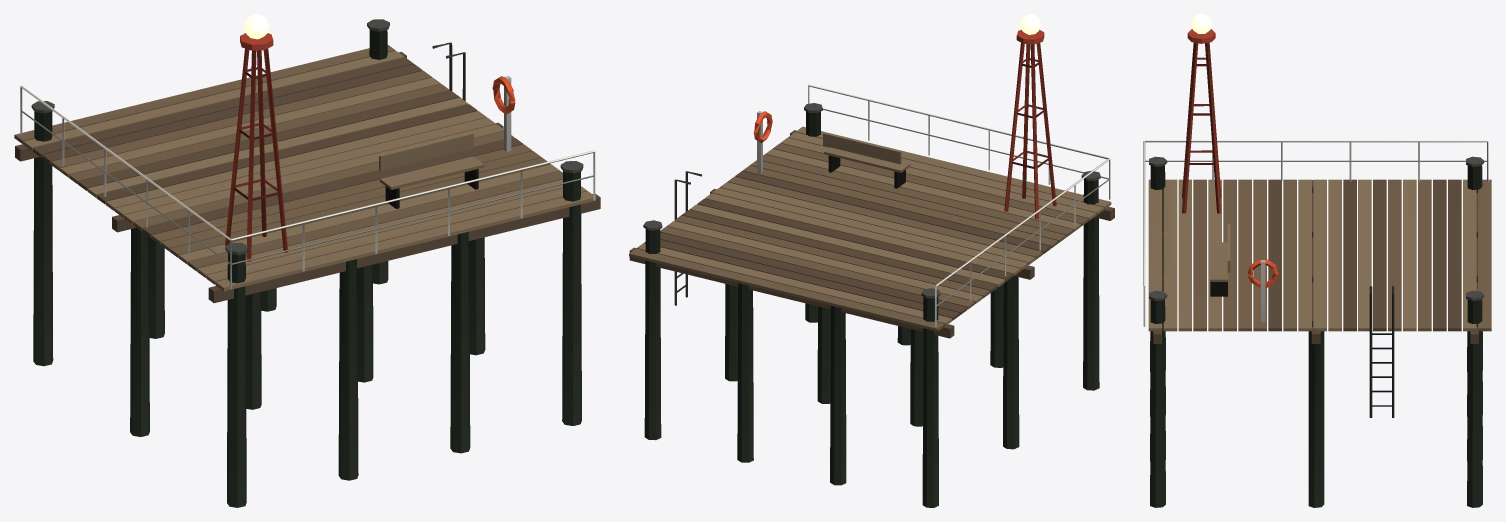
Rendered from pier_head.glb.
The picture shows the model from 3 angles, left to right: view 1: azimuth 30°, elevation 25°; view 2: azimuth 150°, elevation 25°; view 3: azimuth 270°, elevation 25°; orthographic projection. The views are drawn at different scales.
Visible parts, largest first — view 1: pier_head_mesh; view 2: pier_head_mesh; view 3: pier_head_mesh.
Boxes of the visible parts, bbox=[...] form: pier_head_mesh: bbox=[14, 14, 600, 507]; pier_head_mesh: bbox=[629, 14, 1114, 507]; pier_head_mesh: bbox=[1143, 14, 1491, 507].
Size of the model in its own units: 8.3 by 9.39 by 7.91.
